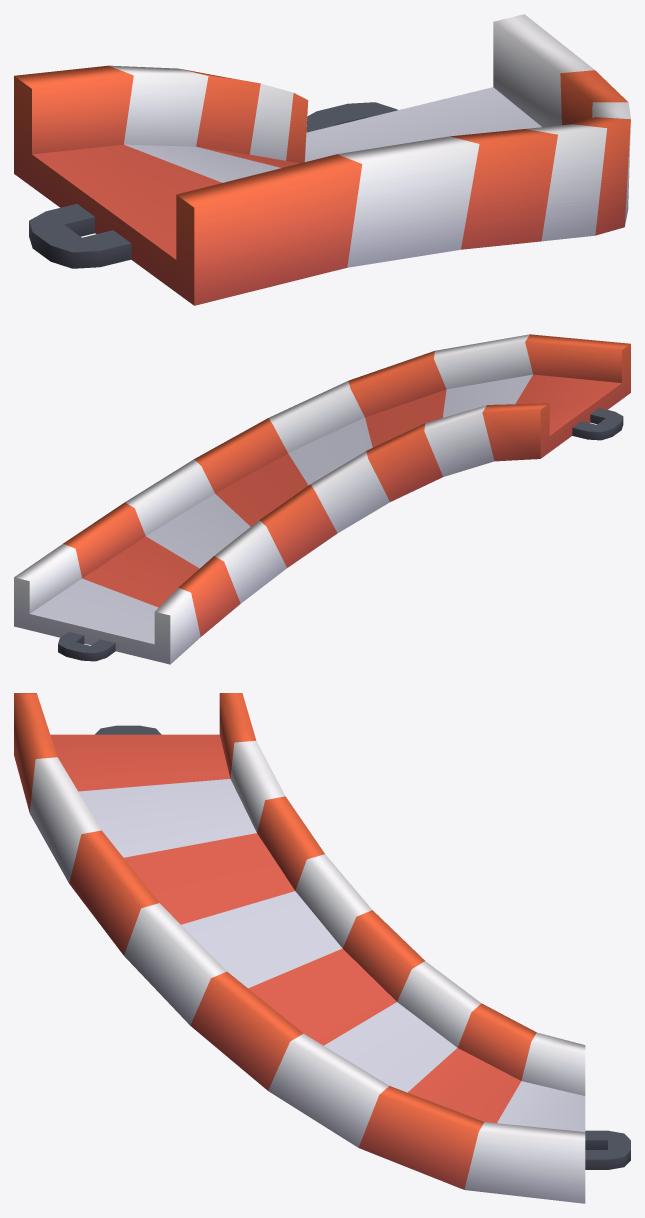
The model's file is track-striped-narrow-corner-small-ramp.glb.
3 renders of one model, top to bottom at view 1: azimuth 30°, elevation 25°; view 2: azimuth 150°, elevation 25°; view 3: azimuth 270°, elevation 25°, orthographic. The views are drawn at different scales.
Visible parts, largest first — view 1: track-striped-narrow-corner-small-ramp; view 2: track-striped-narrow-corner-small-ramp; view 3: track-striped-narrow-corner-small-ramp.
Boxes of the visible parts, <box> form: track-striped-narrow-corner-small-ramp: <box>14,14,630,305</box>; track-striped-narrow-corner-small-ramp: <box>14,334,630,664</box>; track-striped-narrow-corner-small-ramp: <box>14,693,630,1203</box>.
Bounding box in the file's own units: 2.7 × 1.3 × 2.7.
Materials: 1 (1 with a texture image).
